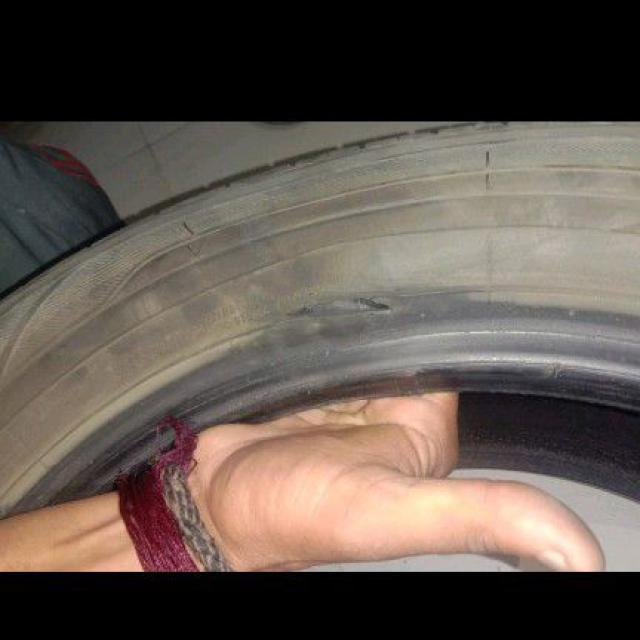Bulge: (214, 203, 534, 357)
